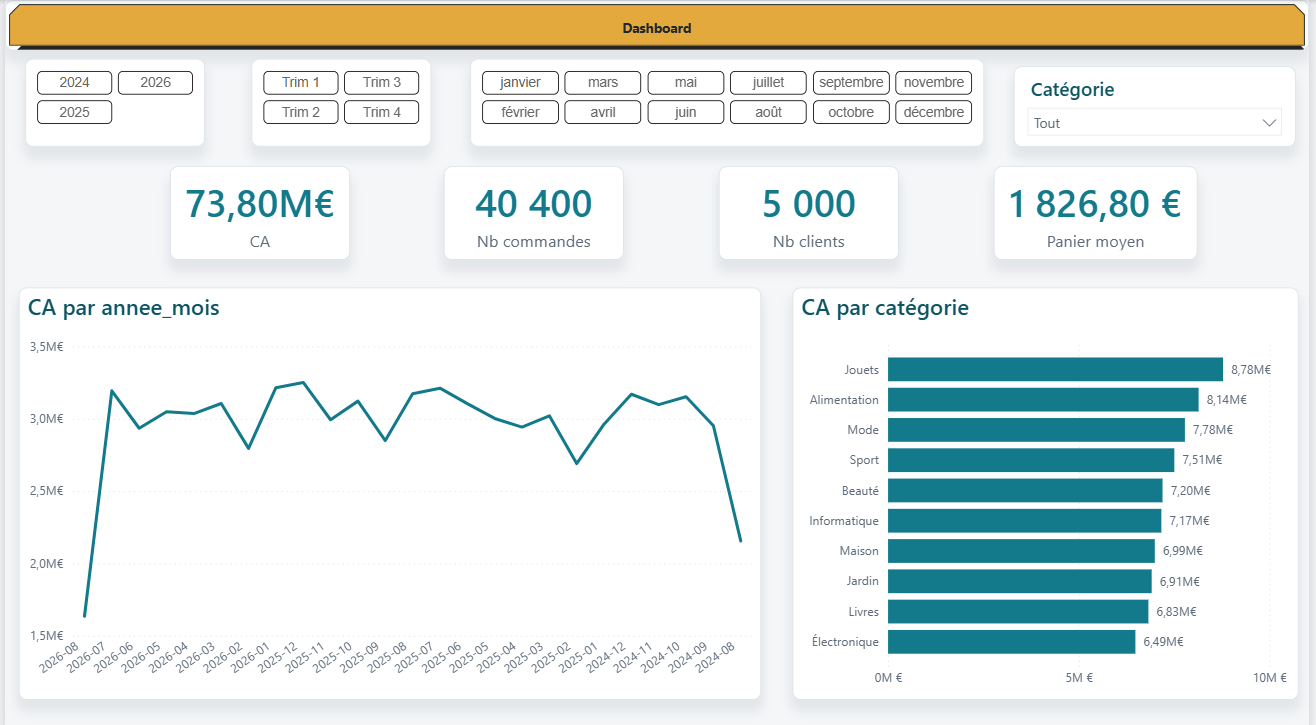

Layout of this report page (visuals, bound fields, positions):
{"tool":"powerbi","page":{"name":"Dashboard","canvas":[1280,720],"ordinal":0},"visuals":[{"type":"pageNavigator","box":[0,0,1280.3,49.4],"z":0},{"type":"ChicletSlicer1448559807354","fields":{"Category":["dim_date.date.Variation.Hiérarchie de dates.Année"]},"box":[19.8,58.2,177,86.4],"z":1000},{"type":"ChicletSlicer1448559807354","fields":{"Category":["dim_date.date.Variation.Hiérarchie de dates.Trimestre"]},"box":[242.1,58.2,177,86.4],"z":2000},{"type":"ChicletSlicer1448559807354","fields":{"Category":["dim_date.date.Variation.Hiérarchie de dates.Mois"]},"box":[456.1,58.2,505,86.4],"z":3000},{"type":"card","fields":{"Values":["_Mesures.CA"]},"box":[161.6,163.6,177,91.9],"z":4000},{"type":"card","fields":{"Values":["_Mesures.Nb commandes"]},"box":[431.1,163.6,177,91.9],"z":5000},{"type":"card","fields":{"Values":["_Mesures.Nb clients"]},"box":[700.5,163.6,177,91.9],"z":6000},{"type":"card","fields":{"Values":["_Mesures.Panier moyen"]},"box":[970.2,163.3,200.3,91.9],"z":7000},{"type":"lineChart","fields":{"Category":["dim_date.annee_mois"],"Y":["_Mesures.CA"]},"box":[12.9,282.4,728.6,404.8],"z":7001},{"type":"barChart","title":"CA par catégorie","fields":{"Category":["dim_product.category"],"Y":["_Mesures.CA"]},"box":[773.1,282.4,496.7,404.8],"z":7002},{"type":"slicer","fields":{"Values":["dim_product.category"]},"box":[989.9,65,277.2,79.6],"z":7003}]}

Visuals, with their boxes in screenshot pixels (x1, y1, x2, y2), scaled from the page's 1280x720 canvas onto the 1316x725 screenshot:
pageNavigator: locate(0, 0, 1315, 50)
ChicletSlicer1448559807354 - dim_date.date.Variation.Hiérarchie de dates.Année: locate(20, 59, 202, 146)
ChicletSlicer1448559807354 - dim_date.date.Variation.Hiérarchie de dates.Trimestre: locate(249, 59, 431, 146)
ChicletSlicer1448559807354 - dim_date.date.Variation.Hiérarchie de dates.Mois: locate(469, 59, 988, 146)
card - _Mesures.CA: locate(166, 165, 348, 257)
card - _Mesures.Nb commandes: locate(443, 165, 625, 257)
card - _Mesures.Nb clients: locate(720, 165, 902, 257)
card - _Mesures.Panier moyen: locate(997, 164, 1203, 257)
lineChart - dim_date.annee_mois x _Mesures.CA: locate(13, 284, 762, 692)
"CA par catégorie" barChart: locate(795, 284, 1306, 692)
slicer - dim_product.category: locate(1018, 65, 1303, 146)
